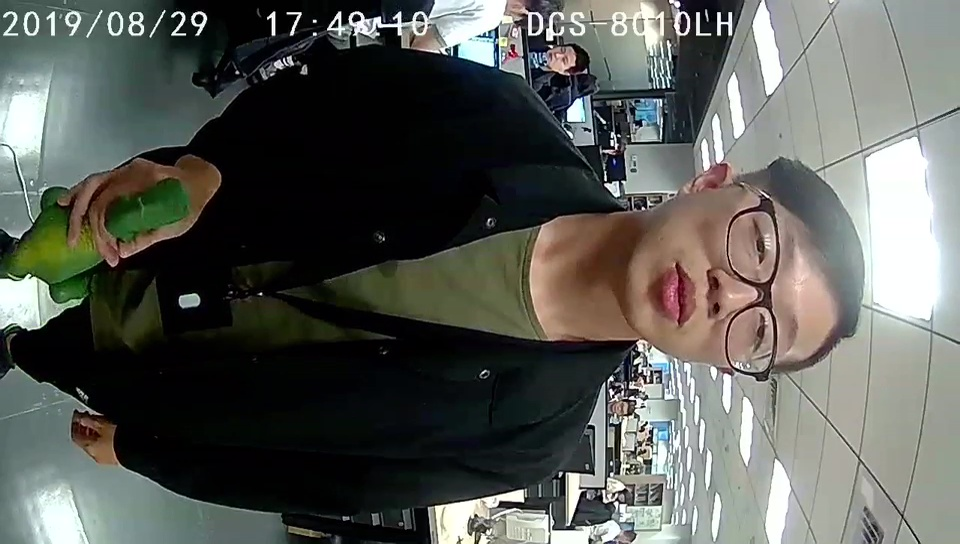rex: (22, 176, 192, 304)
